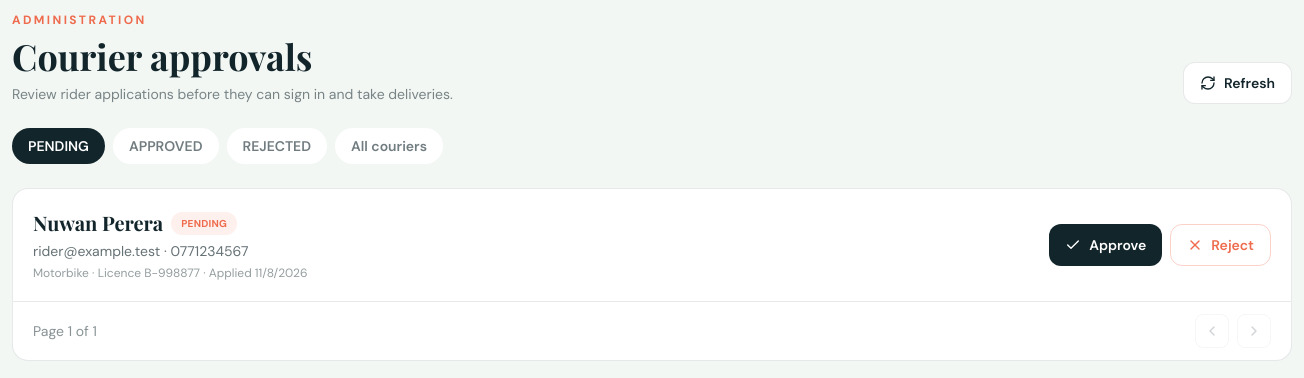
it: CourierApprovalsPage › reloads the list when a status filter is selected
Expected: the heading "Nuwan Perera" is shown, x1=33 y1=209 x2=163 y2=237
Step 1. Click the button "APPROVED" → (166, 146), box x1=113 y1=128 x2=218 y2=164
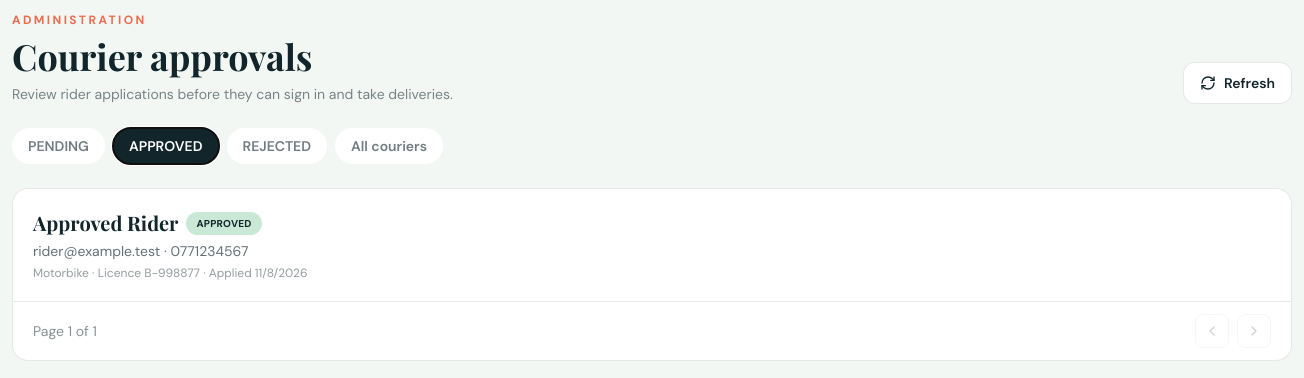
Expected: the heading "Approved Rider" is shown, x1=33 y1=209 x2=178 y2=237
